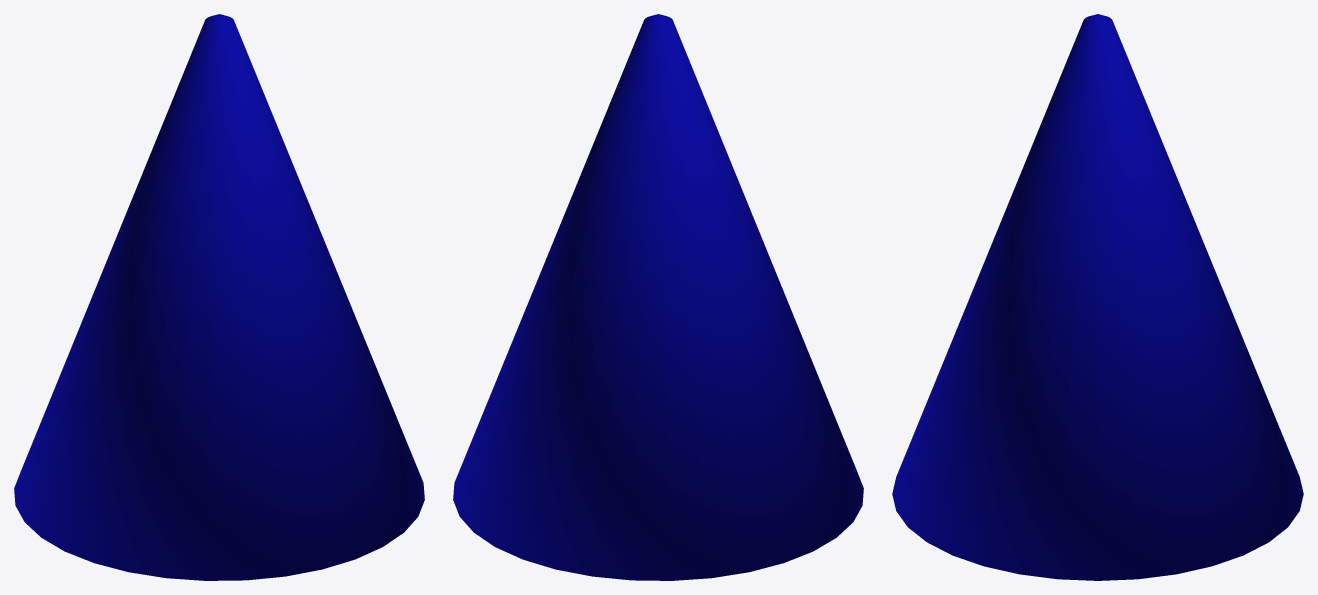
File: player.obj
3 views of the same model, side by side, from view 1: azimuth 30°, elevation 25°; view 2: azimuth 150°, elevation 25°; view 3: azimuth 270°, elevation 25° (orthographic).
Parts seen in each view (by area): view 1: Cone_Cone.001; view 2: Cone_Cone.001; view 3: Cone_Cone.001.
Boxes of the visible parts, x1,y1,x2,y2 form: Cone_Cone.001: [14, 14, 424, 580]; Cone_Cone.001: [453, 14, 863, 580]; Cone_Cone.001: [892, 14, 1303, 580].
Size of the model in its own units: 0.264 by 0.3398 by 0.264.
